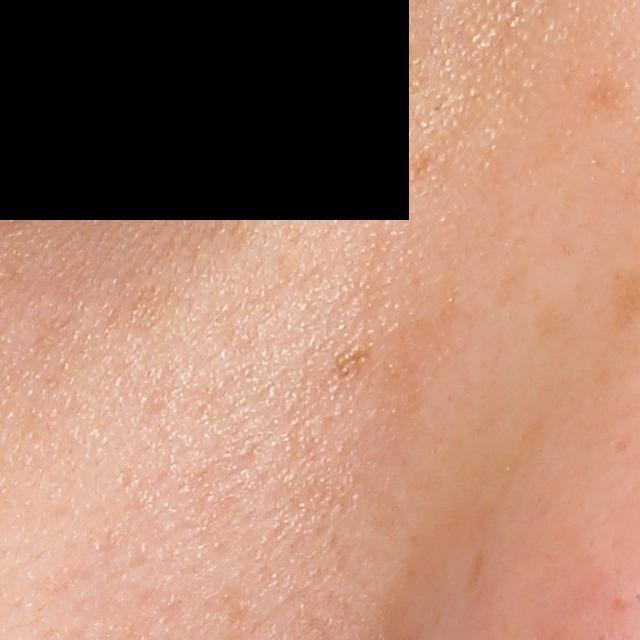melasma: (98, 268, 184, 340), (526, 297, 574, 346), (332, 344, 376, 385), (405, 153, 433, 180)
